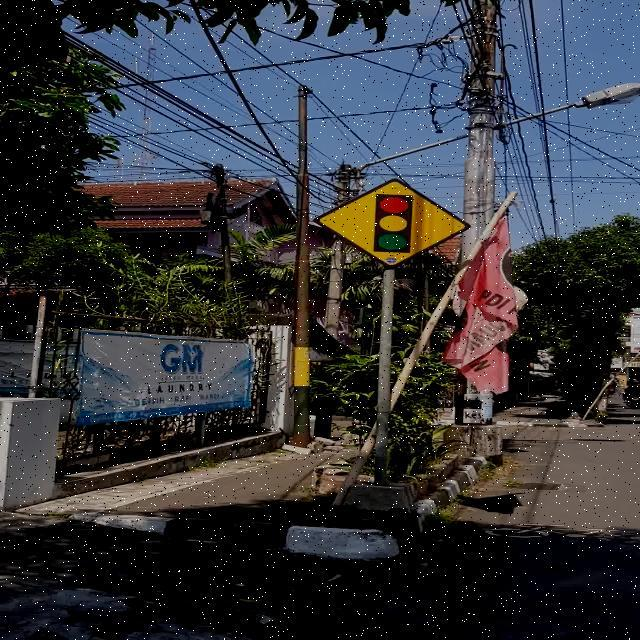Lampu Lalu Lintas: (314, 178, 471, 269)
